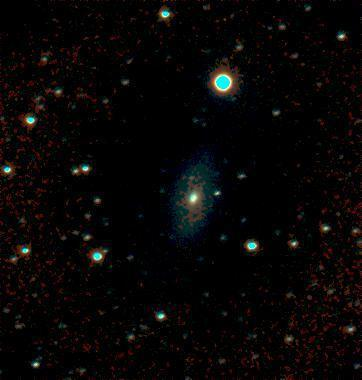star: (171, 165, 201, 195)
